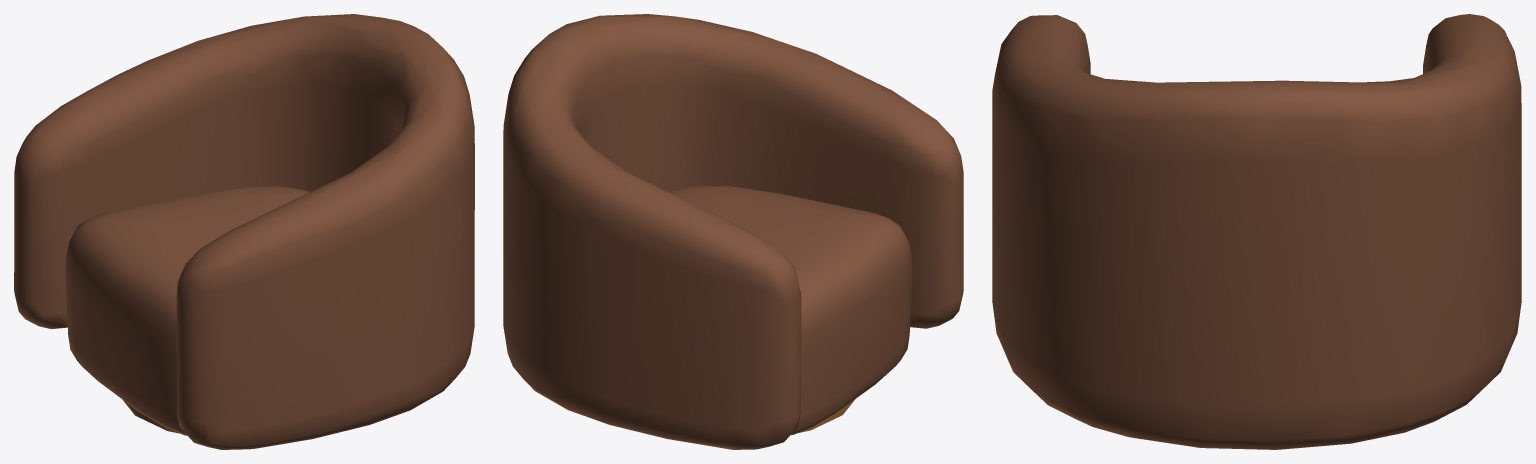
File: armchair_04_brown.fbx
3 renders of one model, left to right at view 1: azimuth 30°, elevation 25°; view 2: azimuth 150°, elevation 25°; view 3: azimuth 270°, elevation 25°, orthographic. The views are drawn at different scales.
Parts seen in each view (by area): view 1: armchair_04_brown; view 2: armchair_04_brown; view 3: armchair_04_brown.
Boxes of the visible parts, <box> form: armchair_04_brown: <box>14,14,474,449</box>; armchair_04_brown: <box>503,14,963,449</box>; armchair_04_brown: <box>992,14,1521,449</box>.
Size of the model in its own units: 115 by 99.69 by 122.
Materials: 2 (2 with a texture image).
